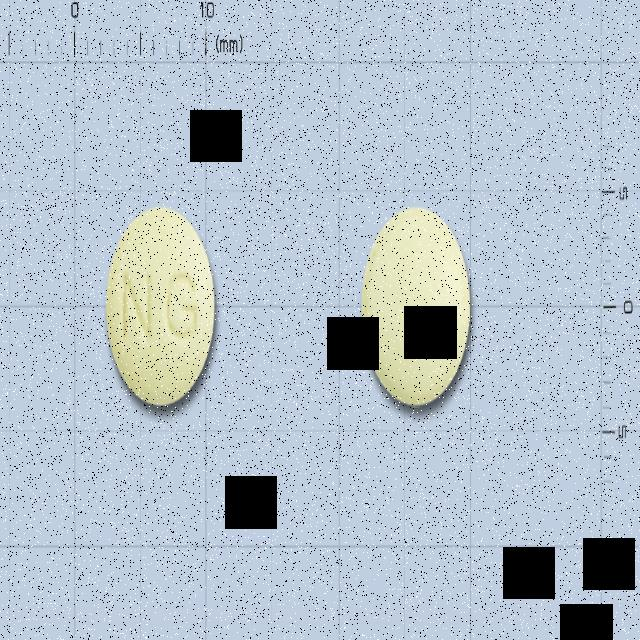Nevolaxin Tablet: (105, 206, 216, 410)
